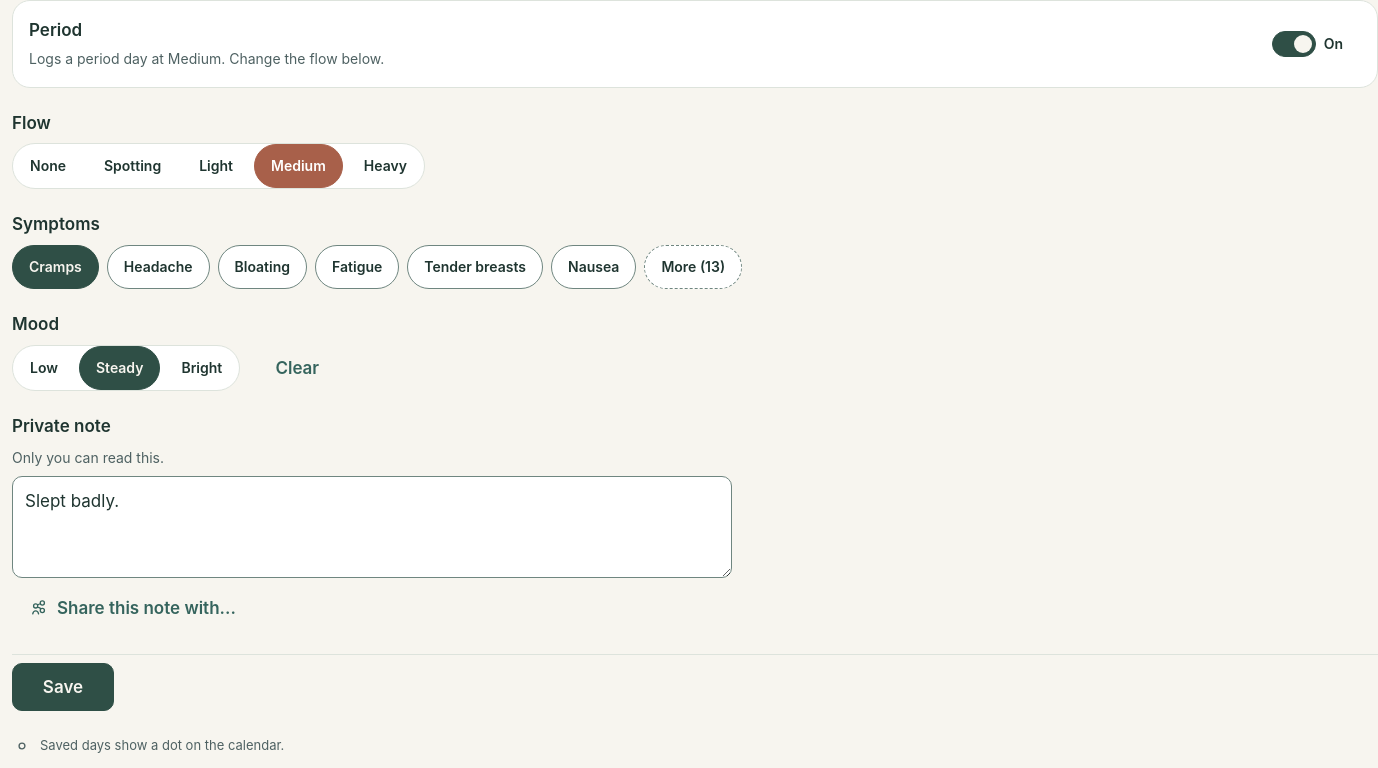
DayLogInline › starts from the server's read without a request, and saves from the page
Expected: the radio button labelled "Steady" is checked, [79, 346, 160, 390]
Click the radio button labelled "Bright" at (202, 368), box [164, 346, 239, 390]
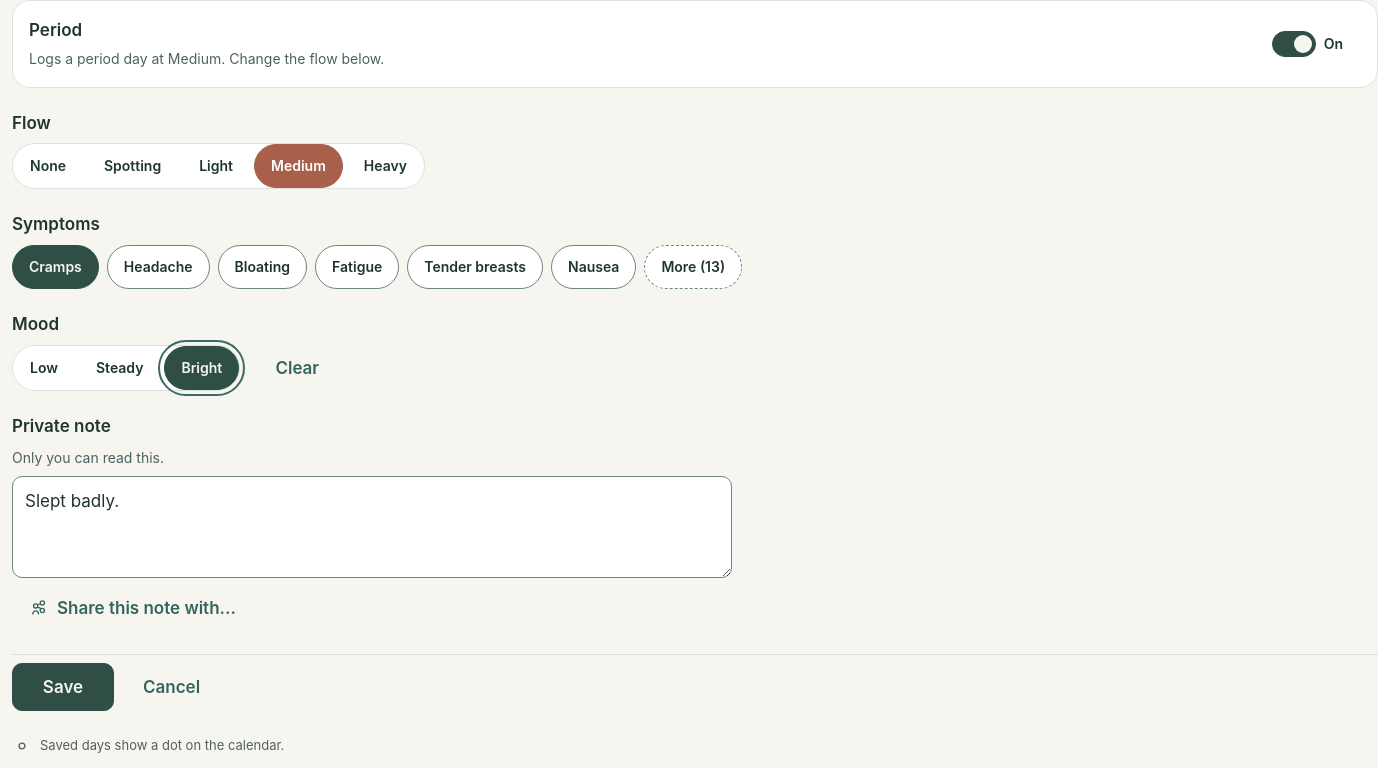
Expected: the button "Cancel" is shown, [126, 663, 217, 711]
Click the button "Save" at (63, 687), box [12, 663, 114, 711]
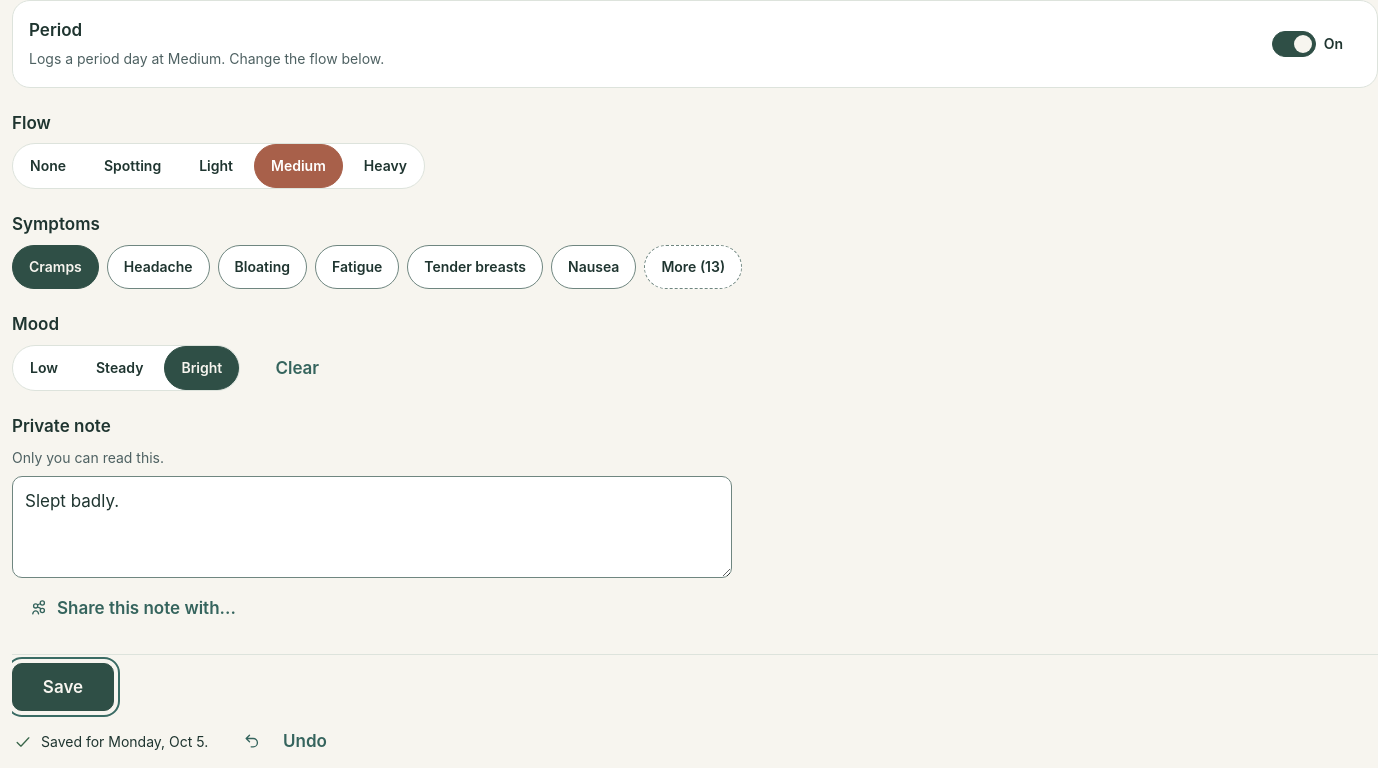
Expected: the text "Saved for Monday, Oct 5." is shown, [41, 731, 208, 752]
Expected: the button "Cancel" is gone
